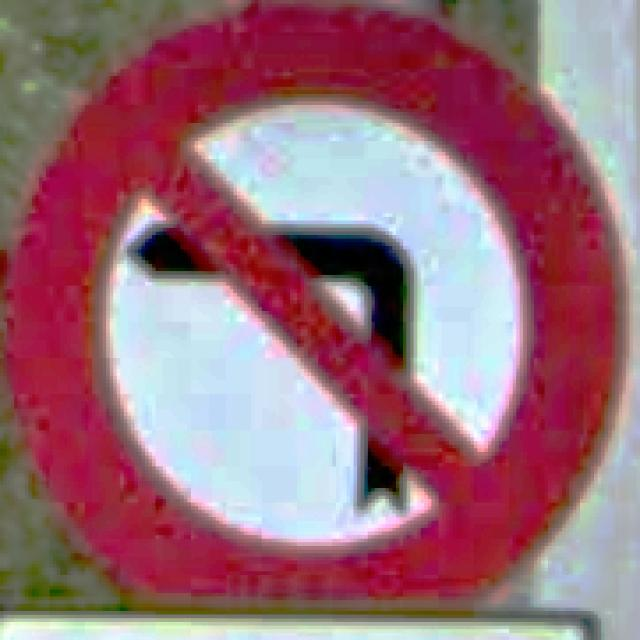noturnleft: (0, 0, 629, 611)
